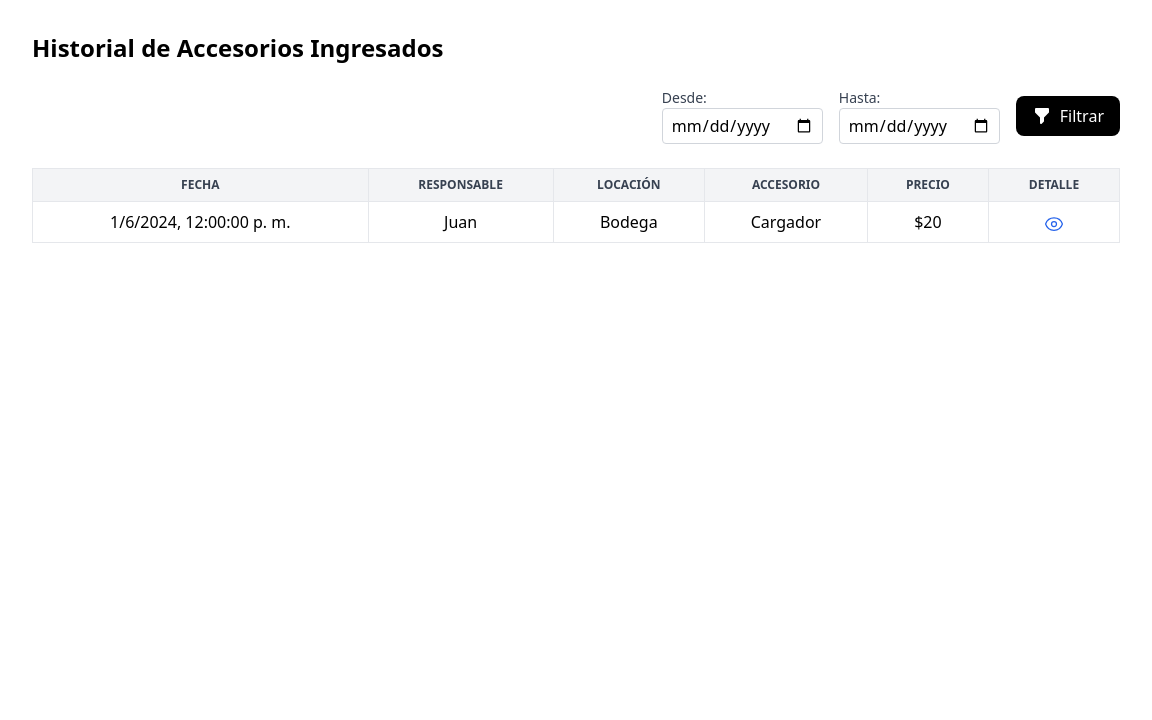
Test case: HistorialIngresosAccesorios › abre y cierra el modal de detalle
Click the button titled "Ver detalle" at (1054, 222), box [1044,210,1064,234]
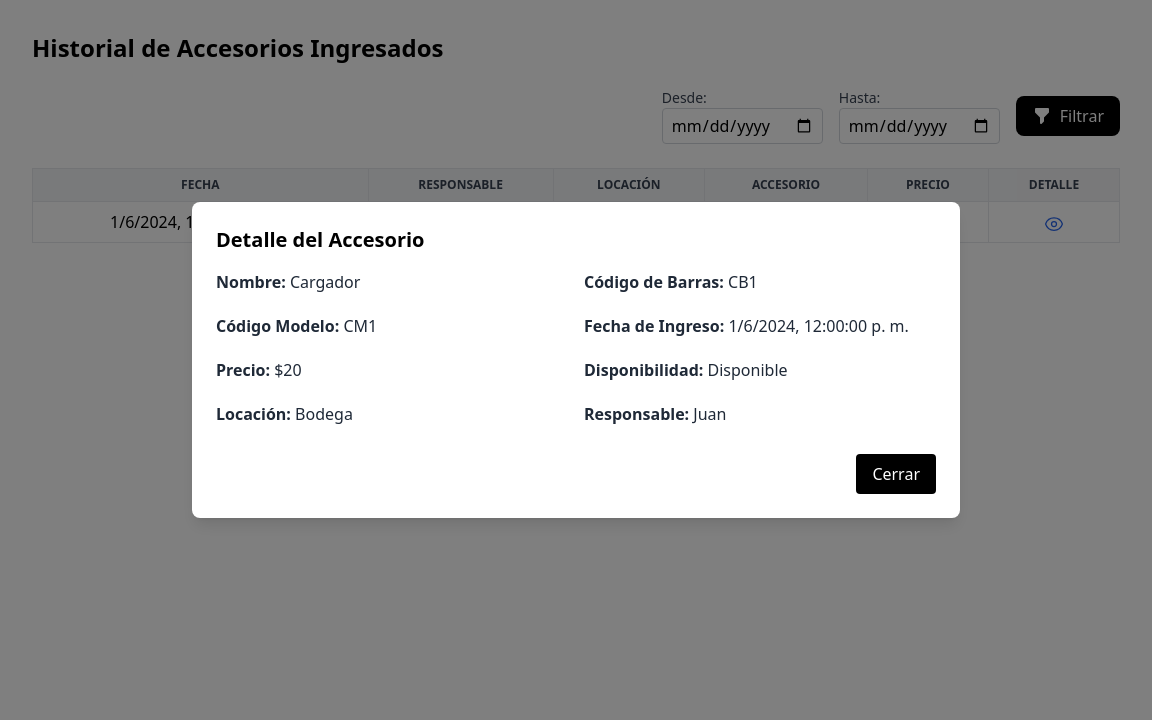
Now the heading "Detalle del Accesorio" is shown, box [216,226,424,253]
Now the text "Nombre:" is shown, box [216,271,286,293]
Click the button "Cerrar" at (896, 474), box [856,454,936,494]
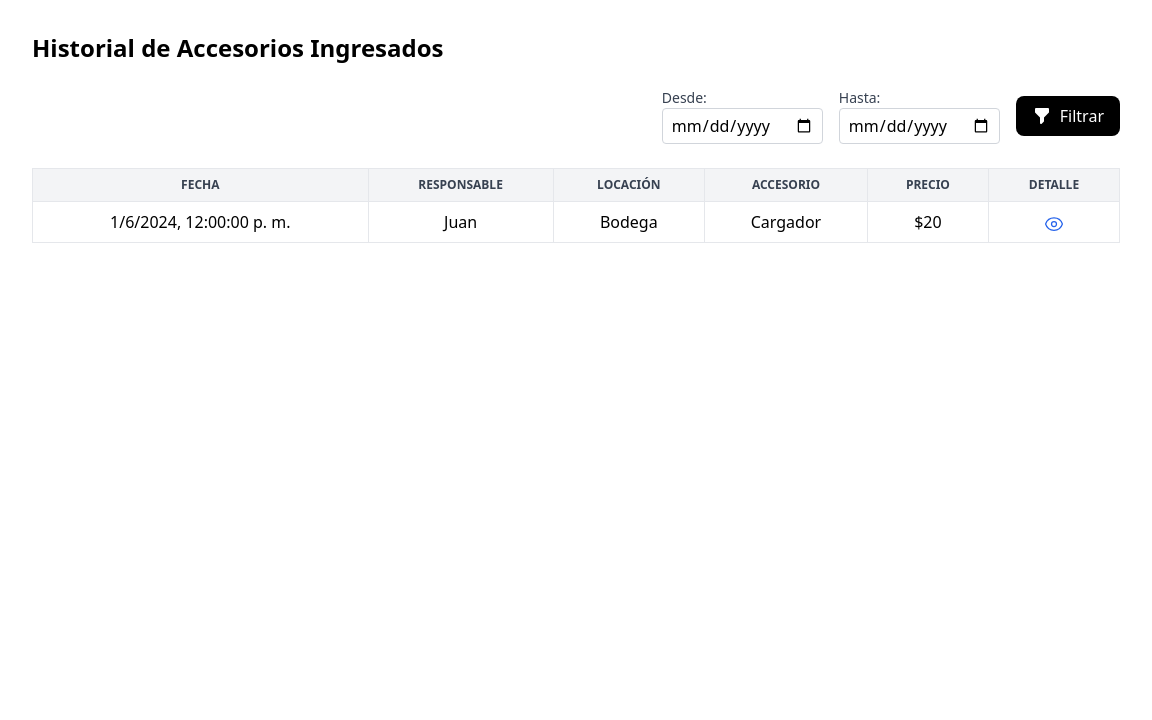
Now the heading "Detalle del Accesorio" is gone
